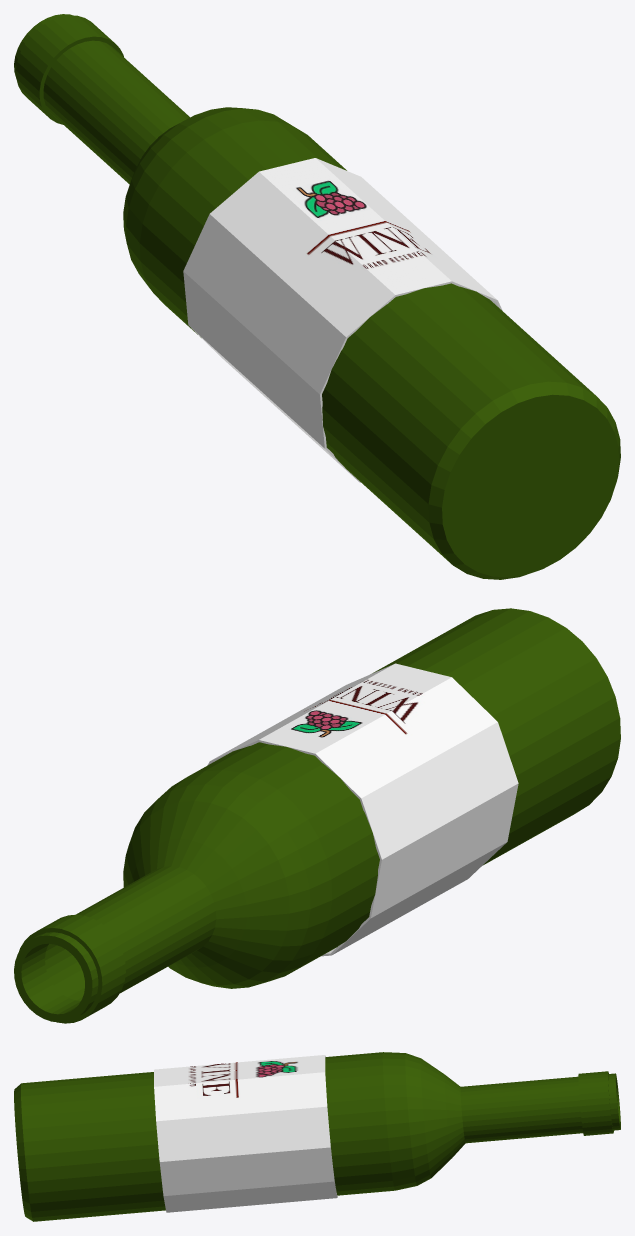
Rendered from wine-green.gltf.
The picture shows the model from 3 angles, top to bottom: view 1: azimuth 30°, elevation 25°; view 2: azimuth 150°, elevation 25°; view 3: azimuth 270°, elevation 25°; orthographic projection. The views are drawn at different scales.
Parts seen in each view (by area): view 1: Circle, Cylinder; view 2: Circle, Cylinder; view 3: Circle, Cylinder.
Boxes of the visible parts, x1,y1,x2,y2 form: Circle: (14,14,620,579); Cylinder: (183,158,502,482); Circle: (14,608,620,1023); Cylinder: (207,663,518,956); Circle: (14,1052,620,1221); Cylinder: (154,1055,337,1212).
Size of the model in its own units: 0.3809 by 0.4583 by 1.61.
2 materials, 1 textured.
